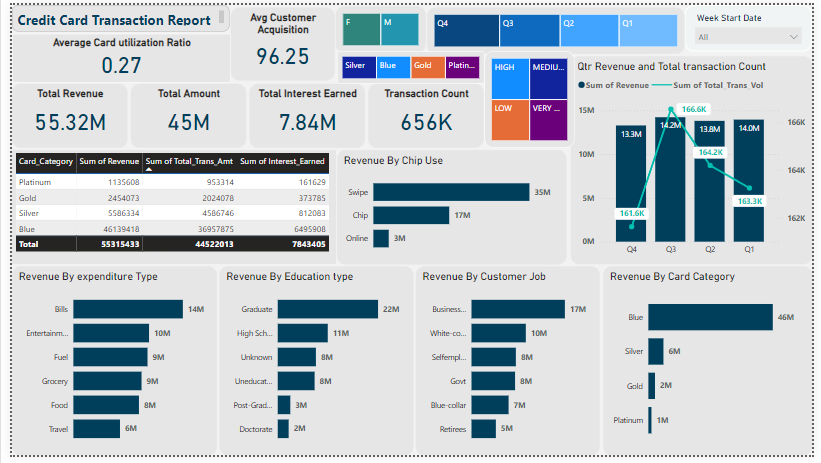

What the dashboard file says about the page in this screenshot:
{"tool":"powerbi","page":{"name":"Credit Card Transaction","canvas":[1280,720],"ordinal":1},"visuals":[{"type":"textbox","box":[0,0,348,42],"z":0},{"type":"lineStackedColumnComboChart","title":"Qtr Revenue and Total transaction Count","fields":{"Category":["credit_card.Qtr"],"Y":["Sum(credit_card.Revenue)"],"Y2":["Sum(credit_card.Total_Trans_Vol)"]},"box":[894,81,386,333],"z":1000},{"type":"clusteredBarChart","title":"Revenue By expenditure Type","fields":{"Category":["credit_card.Exp Type"],"Y":["Sum(credit_card.Revenue)"]},"box":[0,418,328,302],"z":2000},{"type":"clusteredBarChart","title":"Revenue By Education type","fields":{"Category":["customer.Education_Level"],"Y":["Sum(credit_card.Revenue)"]},"box":[332,418,310,302],"z":3000},{"type":"clusteredBarChart","title":"Revenue By Customer Job","fields":{"Category":["customer.Customer_Job"],"Y":["Sum(credit_card.Revenue)"]},"box":[646,418,294,302],"z":4000},{"type":"clusteredBarChart","title":"Revenue By Card Category","fields":{"Category":["credit_card.Card_Category"],"Y":["Sum(credit_card.Revenue)"]},"box":[946,418,334,302],"z":5000},{"type":"clusteredBarChart","title":"Revenue By Chip Use","fields":{"Category":["credit_card.Use Chip"],"Y":["Sum(credit_card.Revenue)"]},"box":[520,232,367,183],"z":6000},{"type":"tableEx","fields":{"Values":["credit_card.Card_Category","Sum(credit_card.Revenue)","Sum(credit_card.Total_Trans_Amt)","Sum(credit_card.Interest_Earned)"]},"box":[0,232,518,182],"z":7000},{"type":"card","title":"Total Revenue","fields":{"Values":["Sum(credit_card.Revenue)"]},"box":[0,126,185,102],"z":8000},{"type":"card","title":"Total Amount","fields":{"Values":["Sum(credit_card.Total_Trans_Amt)"]},"box":[190,126,185,102],"z":9000},{"type":"card","title":"Total Interest Earned","fields":{"Values":["Sum(credit_card.Interest_Earned)"]},"box":[380,126,185,102],"z":10000},{"type":"card","title":"Transaction Count","fields":{"Values":["Sum(credit_card.Total_Trans_Vol)"]},"box":[570,126,185,102],"z":11000},{"type":"slicer","fields":{"Values":["credit_card.Week_Start_Date"]},"box":[1076,0,204,74],"z":12000},{"type":"treemap","fields":{"Group":["credit_card.Qtr"],"Values":["Avg(credit_card.Client_Num)"]},"box":[664,4,412,74],"z":13000},{"type":"treemap","fields":{"Group":["customer.Gender"],"Values":["Avg(credit_card.Client_Num)"]},"box":[518,2,144,74],"z":14000},{"type":"treemap","fields":{"Group":["credit_card.Card_Category"],"Values":["Avg(credit_card.Client_Num)"]},"box":[520,74,236,52],"z":15000},{"type":"treemap","fields":{"Group":["customer.IncomeGroup"],"Values":["Avg(credit_card.Client_Num)"]},"box":[756,74,144,154],"z":16000},{"type":"card","title":"Avg Customer Acquisition ","fields":{"Values":["Avg(credit_card.Customer_Acq_Cost)"]},"box":[350,4,166,117],"z":17000},{"type":"card","title":"Average Card utilization Ratio","fields":{"Values":["Avg(credit_card.Avg_Utilization_Ratio)"]},"box":[0,45,350,78],"z":18000}]}

Visuals, with their boxes in screenshot pixels (x1, y1, x2, y2), scaled from the page's 1280x720 canvas onto the 821x463 screenshot:
textbox: [left=0, top=0, right=223, bottom=27]
"Qtr Revenue and Total transaction Count" lineStackedColumnComboChart: [left=573, top=52, right=820, bottom=266]
"Revenue By expenditure Type" clusteredBarChart: [left=0, top=269, right=210, bottom=462]
"Revenue By Education type" clusteredBarChart: [left=213, top=269, right=412, bottom=462]
"Revenue By Customer Job" clusteredBarChart: [left=414, top=269, right=603, bottom=462]
"Revenue By Card Category" clusteredBarChart: [left=607, top=269, right=820, bottom=462]
"Revenue By Chip Use" clusteredBarChart: [left=334, top=149, right=569, bottom=267]
tableEx - credit_card.Card_Category x Sum(credit_card.Revenue): [left=0, top=149, right=332, bottom=266]
"Total Revenue" card: [left=0, top=81, right=119, bottom=147]
"Total Amount" card: [left=122, top=81, right=241, bottom=147]
"Total Interest Earned" card: [left=244, top=81, right=362, bottom=147]
"Transaction Count" card: [left=366, top=81, right=484, bottom=147]
slicer - credit_card.Week_Start_Date: [left=690, top=0, right=820, bottom=48]
treemap - credit_card.Qtr x Avg(credit_card.Client_Num): [left=426, top=3, right=690, bottom=50]
treemap - customer.Gender x Avg(credit_card.Client_Num): [left=332, top=1, right=425, bottom=49]
treemap - credit_card.Card_Category x Avg(credit_card.Client_Num): [left=334, top=48, right=485, bottom=81]
treemap - customer.IncomeGroup x Avg(credit_card.Client_Num): [left=485, top=48, right=577, bottom=147]
"Avg Customer Acquisition " card: [left=224, top=3, right=331, bottom=78]
"Average Card utilization Ratio" card: [left=0, top=29, right=224, bottom=79]
